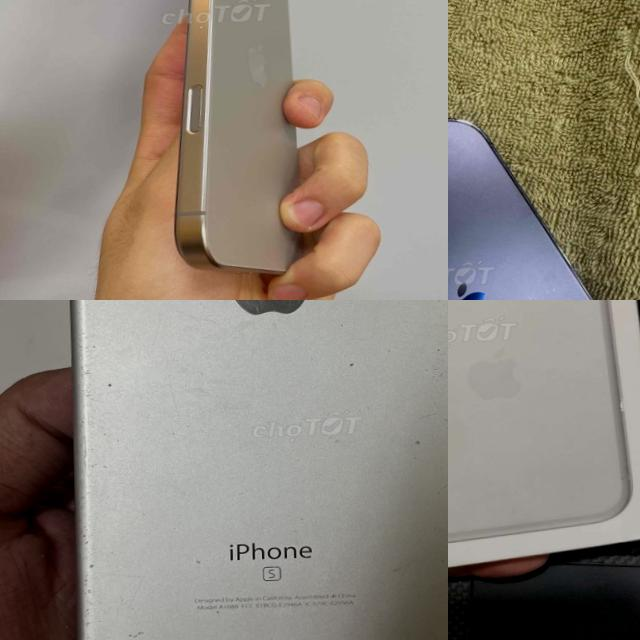gen_14: (448, 108, 640, 300)
gen_16: (175, 0, 299, 273)
gen_17: (448, 300, 640, 548)
gen_6: (69, 300, 448, 640)
scratch: (209, 300, 339, 334)
